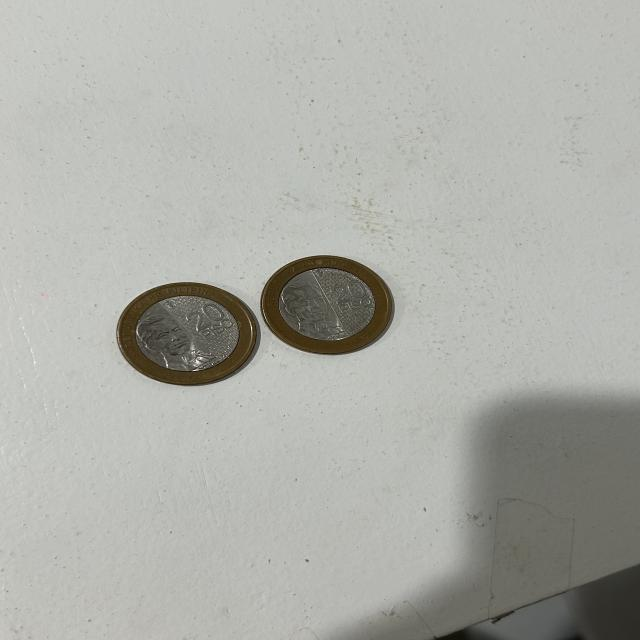20_New_Front: (184, 307, 236, 340), (328, 280, 373, 314)
